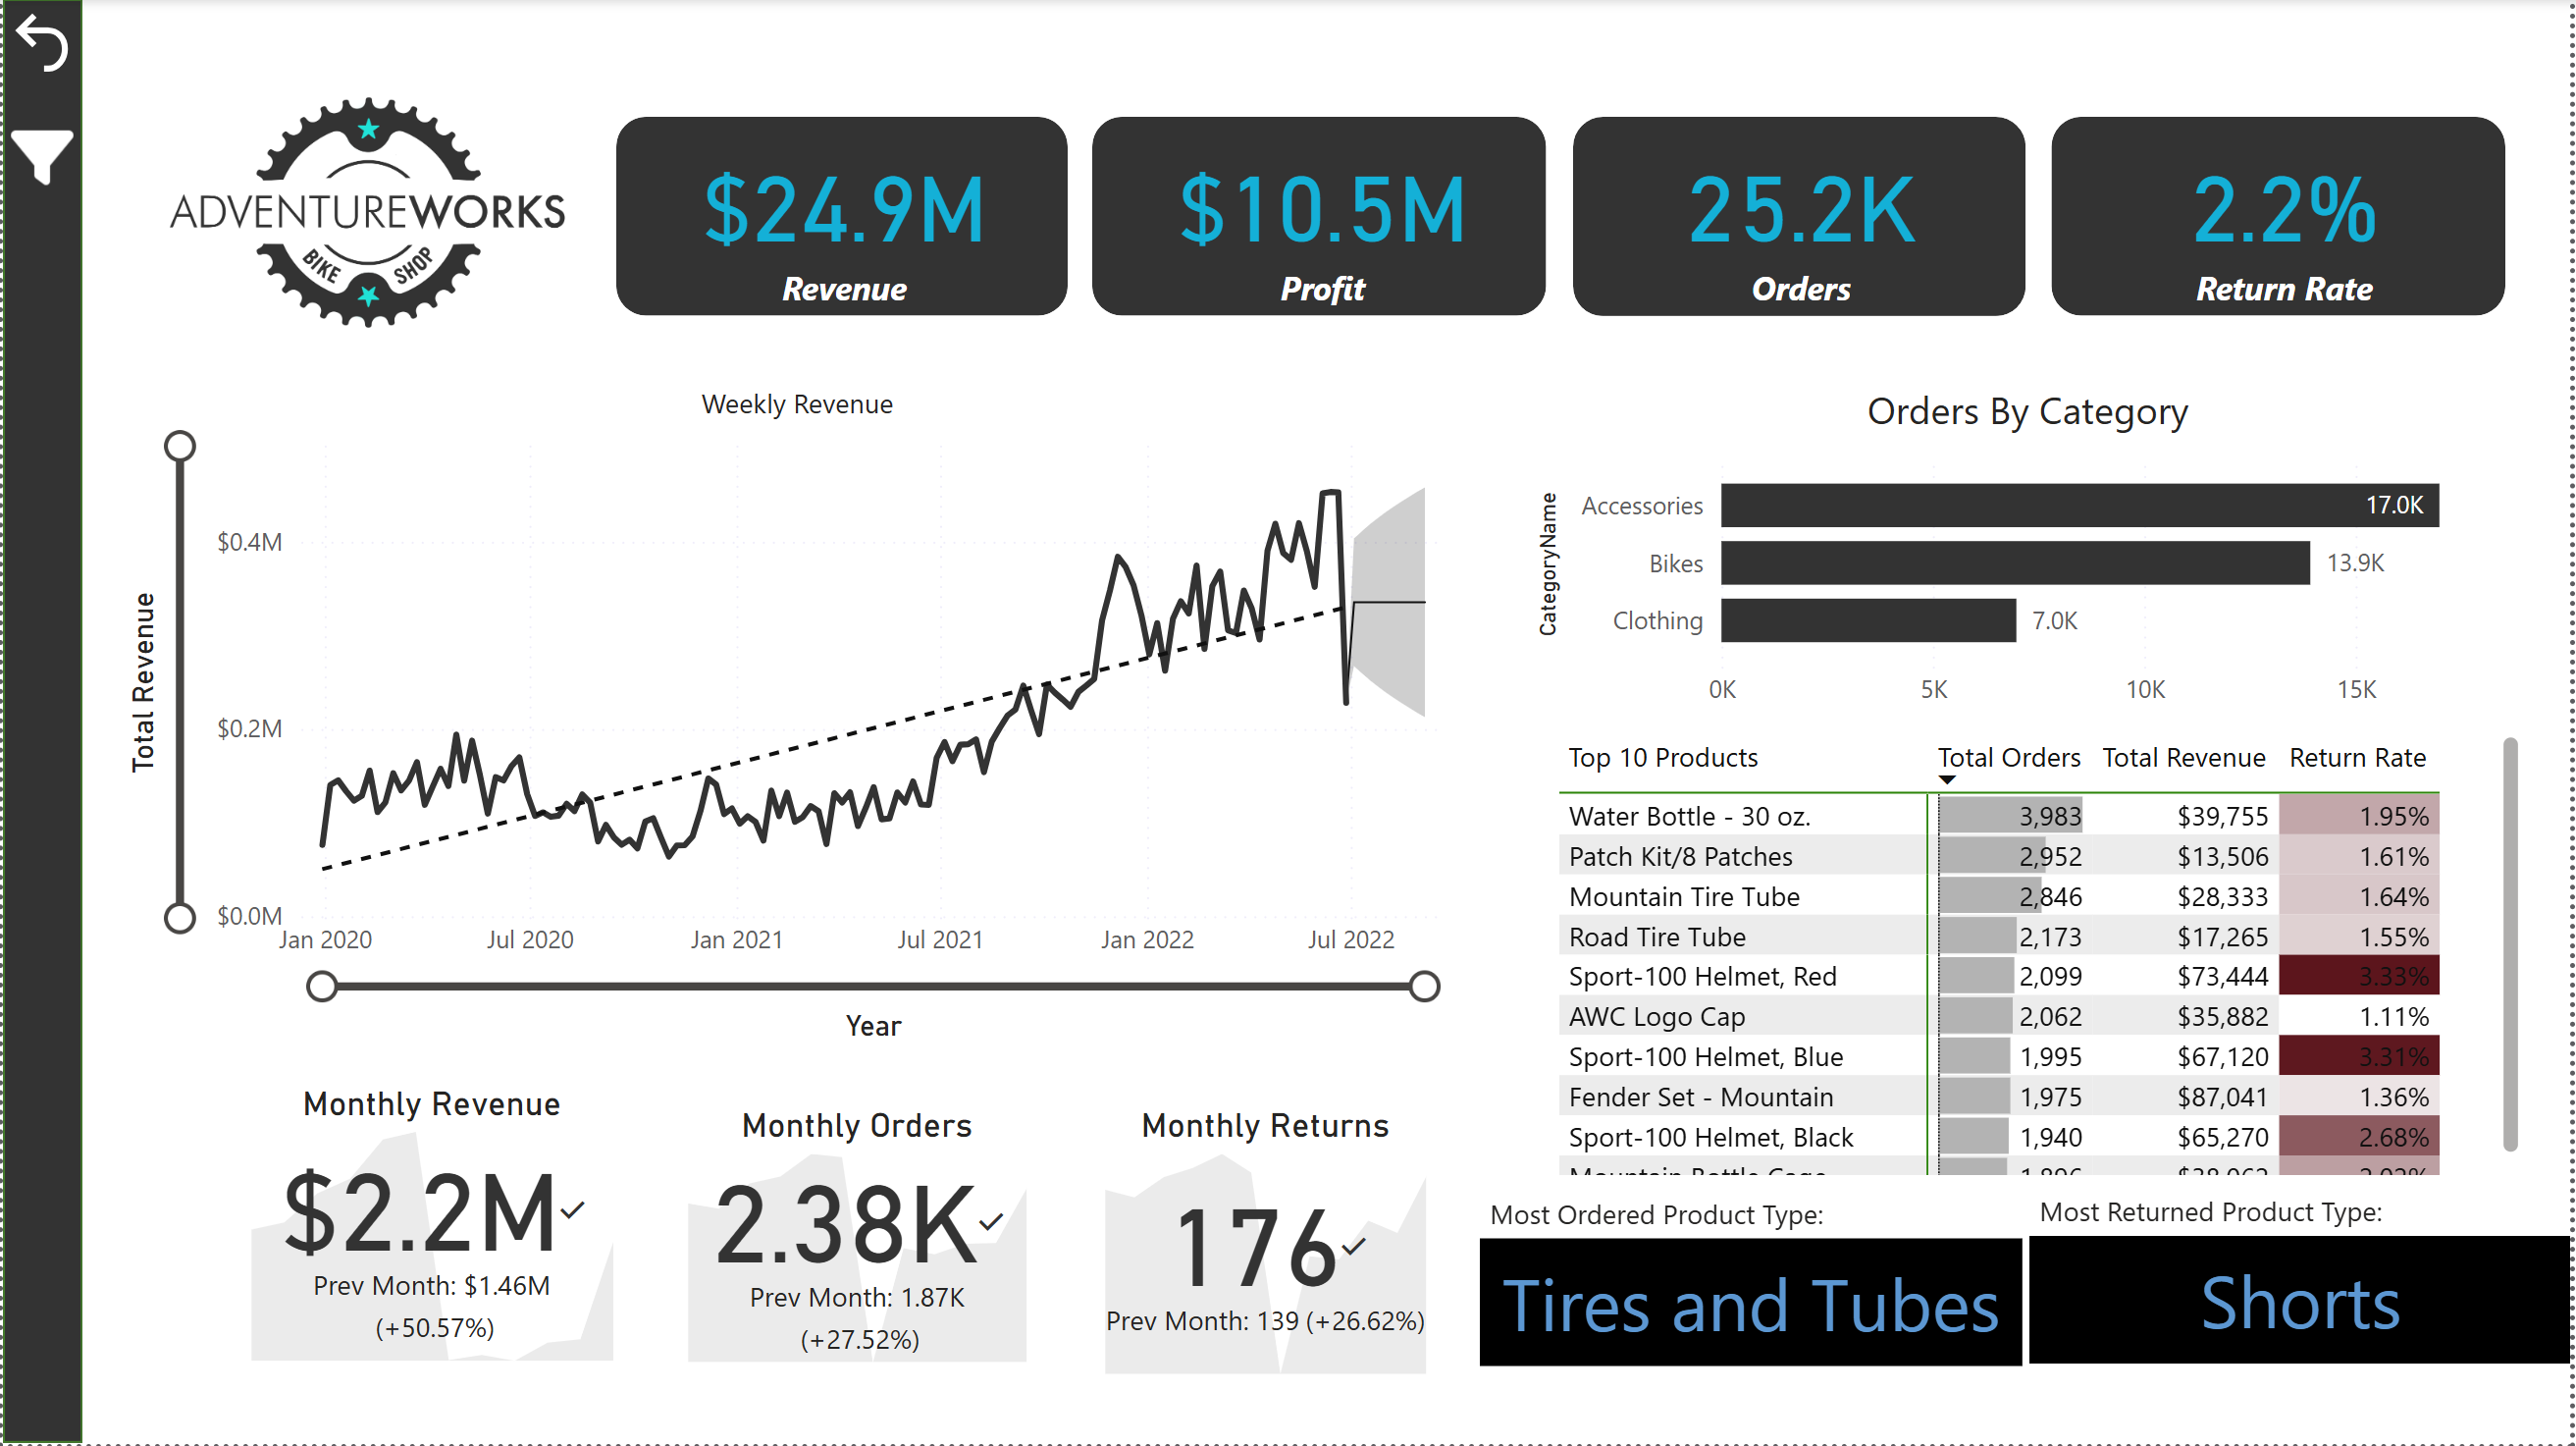

The dashboard page shown, as its layout file describes it:
{"tool":"powerbi","page":{"name":"Exec Dashboard","canvas":[1280,720],"ordinal":0},"visuals":[{"type":"shape","title":"Left Nav Background","box":[0,0,39.7,719.5],"z":0},{"type":"image","title":"AW Logo","box":[56.3,20.8,251.9,171.2],"z":0,"group":"g3"},{"type":"shape","box":[306.3,58.3,225,99],"z":0,"group":"g2"},{"type":"group","id":"g1","title":"KPIs","box":[56.3,20.8,1223.7,171.2],"z":1000},{"type":"shape","box":[544.1,58.7,226.2,99],"z":1000,"group":"g2"},{"type":"group","id":"g2","title":"KPI Backgrounds","box":[306.3,58.3,941.6,99.8],"z":2000,"group":"g1"},{"type":"shape","box":[783.2,58.7,225.6,99.3],"z":2000,"group":"g2"},{"type":"lineChart","title":"Weekly Revenue","fields":{"Y":["Measure Table.Total Revenue"],"Category":["Calendar Lookup.Start of Week.Variation.Date Hierarchy.Year","Calendar Lookup.Start of Week.Variation.Date Hierarchy.Quarter","Calendar Lookup.Start of Week.Variation.Date Hierarchy.Month","Calendar Lookup.Start of Week.Variation.Date Hierarchy.Day"]},"box":[56.3,191.9,679.5,331.8],"z":2000},{"type":"card","fields":{"Values":["Measure Table.Total Profit"]},"box":[514.7,42.3,285.7,134.1],"z":3000,"group":"g3"},{"type":"kpi","title":"Monthly Revenue","fields":{"Indicator":["Measure Table.Total Revenue"],"TrendLine":["Calendar Lookup.Month"],"Goal":["Measure Table.Previous Month Revenue"]},"box":[118.3,541,190.4,142.8],"z":3000},{"type":"card","fields":{"Values":["Measure Table.Total Revenue"]},"box":[276.4,42.4,285.7,134.1],"z":3500,"group":"g3"},{"type":"card","fields":{"Values":["Measure Table.Total Orders"]},"box":[753.8,42.3,285.7,134.1],"z":4000,"group":"g3"},{"type":"shape","box":[1021.7,58.3,226.2,99],"z":4000,"group":"g2"},{"type":"kpi","title":"Monthly Orders","fields":{"TrendLine":["Calendar Lookup.Month"],"Indicator":["Measure Table.Total Orders"],"Goal":["Measure Table.Previous Month Orders"]},"box":[336.2,551.1,178.9,132.7],"z":4000},{"type":"kpi","title":"Monthly Returns","fields":{"TrendLine":["Calendar Lookup.Month"],"Indicator":["Measure Table.Total returns"],"Goal":["Measure Table.Previous Month Returs"]},"box":[543.9,551.1,170.2,138.5],"z":5000},{"type":"card","fields":{"Values":["Measure Table.Return Rate"]},"box":[994.3,42.3,285.7,134.1],"z":5500,"group":"g3"},{"type":"group","id":"g3","title":"KPI Values","box":[56.3,20.8,1223.7,171.2],"z":5501,"group":"g1"},{"type":"clusteredBarChart","title":"Orders By Category","fields":{"Category":["Product Categories Lookup.CategoryName"],"Y":["Measure Table.Total Orders"]},"box":[759.4,192,500.1,170],"z":6000},{"type":"pivotTable","fields":{"Rows":["Product Lookup.ProductName"],"Values":["Measure Table.Total Orders","Measure Table.Total Revenue","Measure Table.Return Rate"]},"box":[770.4,362,489.1,228.7],"z":7000},{"type":"card","fields":{"Values":["Min(Product Subcategories Lookup.SubcategoryName)"]},"box":[736.1,617.5,270.2,63.6],"z":8000},{"type":"textbox","box":[736.1,590.6,225,37.9],"z":9000},{"type":"card","fields":{"Values":["Min(Product Subcategories Lookup.SubcategoryName)"]},"box":[1010,616.3,270.2,63.6],"z":10000},{"type":"textbox","box":[1010,589.4,225,37.9],"z":11000},{"type":"actionButton","box":[0,0,39.1,42.8],"z":12000},{"type":"actionButton","box":[0,58.7,39.1,40.4],"z":13000}]}

Visuals, with their boxes on the page's 1280x720 design canvas (x1, y1, x2, y2). These are canvas units, not pixel positions in the 2576x1446 screenshot, which may show the page scaled, cropped or inside an application window:
"Left Nav Background" shape: [x1=0, y1=0, x2=40, y2=720]
"AW Logo" image: [x1=56, y1=21, x2=308, y2=192]
shape: [x1=306, y1=58, x2=531, y2=157]
"KPIs" group: [x1=56, y1=21, x2=1280, y2=192]
shape: [x1=544, y1=59, x2=770, y2=158]
"KPI Backgrounds" group: [x1=306, y1=58, x2=1248, y2=158]
shape: [x1=783, y1=59, x2=1009, y2=158]
"Weekly Revenue" lineChart: [x1=56, y1=192, x2=736, y2=524]
card - Measure Table.Total Profit: [x1=515, y1=42, x2=800, y2=176]
"Monthly Revenue" kpi: [x1=118, y1=541, x2=309, y2=684]
card - Measure Table.Total Revenue: [x1=276, y1=42, x2=562, y2=176]
card - Measure Table.Total Orders: [x1=754, y1=42, x2=1040, y2=176]
shape: [x1=1022, y1=58, x2=1248, y2=157]
"Monthly Orders" kpi: [x1=336, y1=551, x2=515, y2=684]
"Monthly Returns" kpi: [x1=544, y1=551, x2=714, y2=690]
card - Measure Table.Return Rate: [x1=994, y1=42, x2=1280, y2=176]
"KPI Values" group: [x1=56, y1=21, x2=1280, y2=192]
"Orders By Category" clusteredBarChart: [x1=759, y1=192, x2=1260, y2=362]
pivotTable - Product Lookup.ProductName x Measure Table.Total Orders: [x1=770, y1=362, x2=1260, y2=591]
card - Min(Product Subcategories Lookup.SubcategoryName): [x1=736, y1=618, x2=1006, y2=681]
textbox: [x1=736, y1=591, x2=961, y2=628]
card - Min(Product Subcategories Lookup.SubcategoryName): [x1=1010, y1=616, x2=1280, y2=680]
textbox: [x1=1010, y1=589, x2=1235, y2=627]
actionButton: [x1=0, y1=0, x2=39, y2=43]
actionButton: [x1=0, y1=59, x2=39, y2=99]
